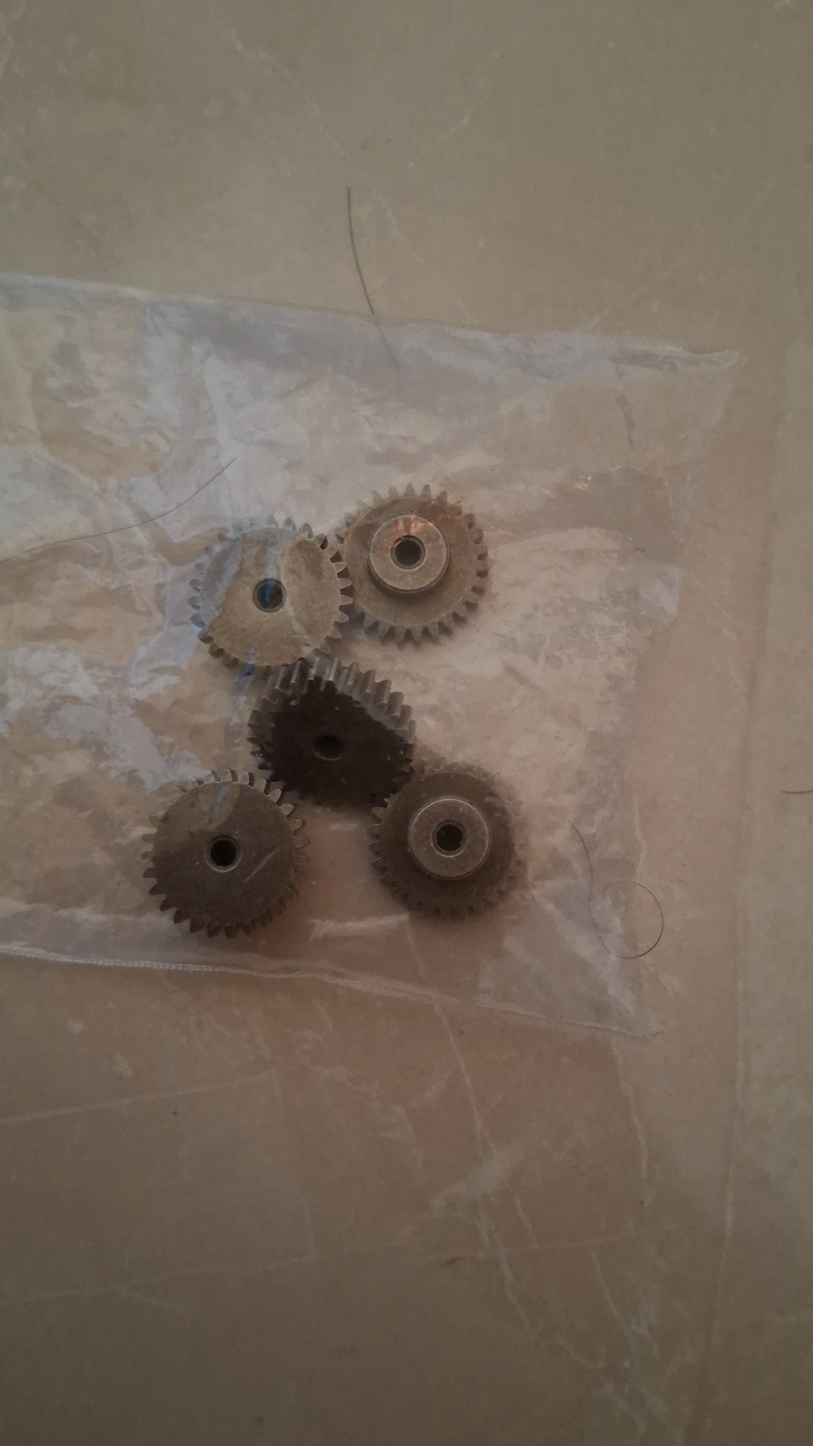spur gear: (143, 771, 303, 936), (190, 518, 349, 673), (250, 660, 414, 808), (337, 484, 487, 642), (371, 764, 519, 916)
